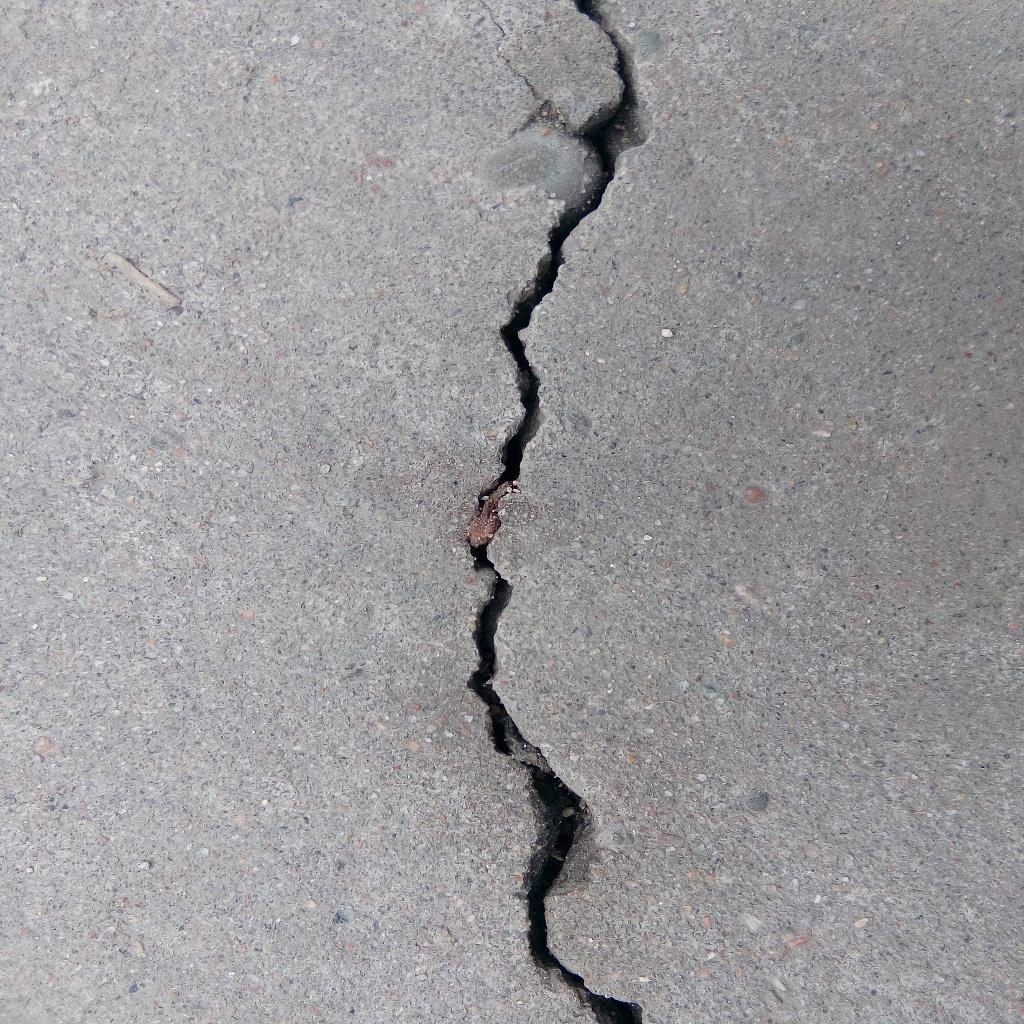Crack: (461, 1, 650, 1024)
